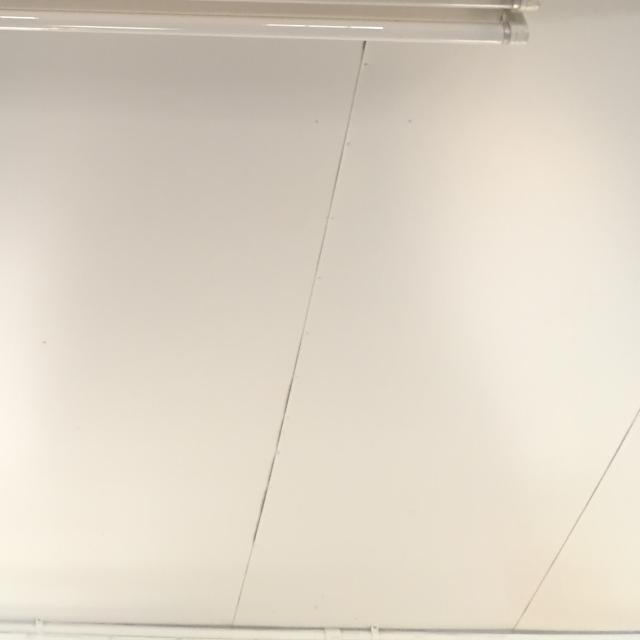fluorescent tube: (0, 0, 571, 93)
